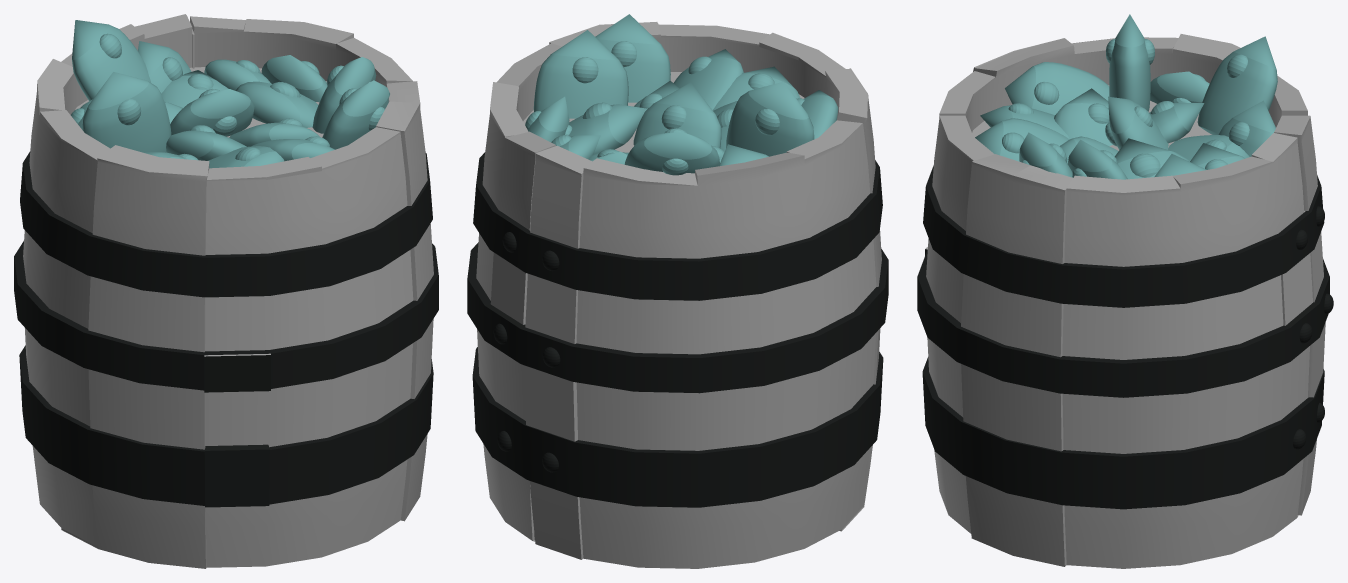
File: Fisketunna.fbx
3 renders of one model, left to right at view 1: azimuth 30°, elevation 25°; view 2: azimuth 150°, elevation 25°; view 3: azimuth 270°, elevation 25°, orthographic. The views are drawn at different scales.
Parts seen in each view (by area): view 1: pCylinder8, pSphere9, pSphere18, pSphere15, pSphere16, pSphere14, pSphere17, pSphere24, pSphere21, pSphere25, pSphere13, pSphere11 (+3 smaller); view 2: pCylinder8, pSphere17, pSphere9, pSphere16, pSphere15, pSphere18, pSphere14, pSphere19, pSphere24, pSphere12, pSphere22, pSphere23 (+1 smaller); view 3: pCylinder8, pSphere18, pSphere22, pSphere9, pSphere15, pSphere21, pSphere19, pSphere25, pSphere14, pSphere20, pSphere17, pSphere10 (+5 smaller).
Boxes of the visible parts, <box> form: pCylinder8: <box>14,14,438,568</box>; pSphere9: <box>82,72,171,152</box>; pSphere18: <box>72,20,150,100</box>; pSphere15: <box>170,88,254,136</box>; pSphere16: <box>322,80,389,149</box>; pSphere14: <box>235,81,318,127</box>; pSphere17: <box>312,57,376,133</box>; pSphere24: <box>261,55,327,102</box>; pSphere21: <box>166,125,246,160</box>; pSphere25: <box>138,41,191,93</box>; pSphere13: <box>229,118,319,146</box>; pSphere11: <box>161,70,228,107</box>; pCylinder8: <box>467,22,888,568</box>; pSphere17: <box>533,30,628,118</box>; pSphere9: <box>726,81,814,156</box>; pSphere16: <box>595,14,670,102</box>; pSphere15: <box>633,82,721,148</box>; pSphere18: <box>624,128,719,175</box>; pSphere14: <box>568,102,647,153</box>; pSphere19: <box>674,49,743,109</box>; pSphere24: <box>525,96,572,142</box>; pSphere12: <box>712,66,800,110</box>; pSphere22: <box>796,90,838,139</box>; pSphere23: <box>551,135,600,158</box>; pCylinder8: <box>917,34,1329,568</box>; pSphere18: <box>1197,36,1277,134</box>; pSphere22: <box>1005,62,1109,114</box>; pSphere9: <box>1106,14,1154,111</box>; pSphere15: <box>1105,96,1168,149</box>; pSphere21: <box>1054,88,1112,146</box>; pSphere19: <box>975,118,1069,161</box>; pSphere25: <box>1218,100,1275,156</box>; pSphere14: <box>1115,138,1189,179</box>; pSphere20: <box>1150,71,1209,103</box>; pSphere17: <box>1067,139,1127,179</box>; pSphere10: <box>1149,101,1204,143</box>.
Bounding box in the file's own units: 2.47 × 2.82 × 2.49.
